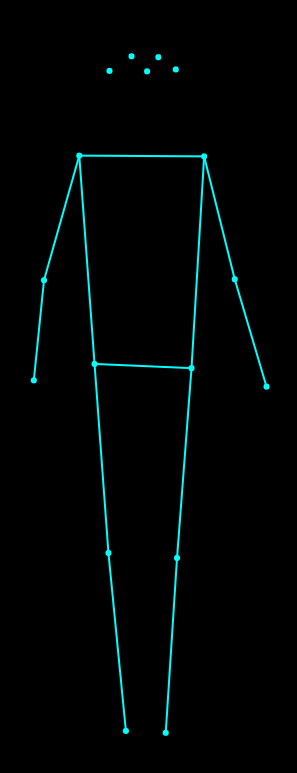mountain: (25, 43, 275, 740)
